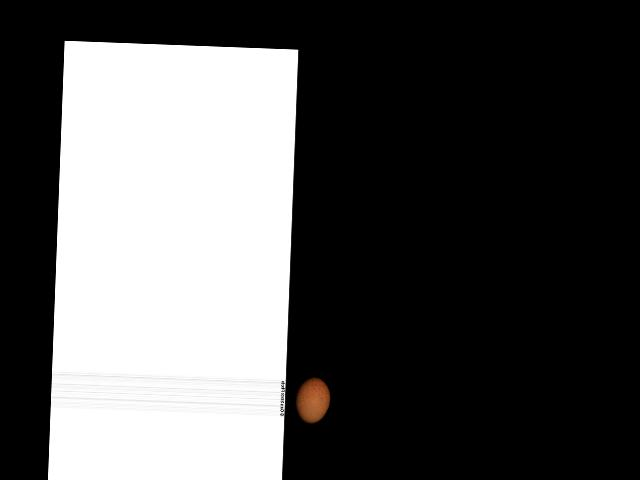egg: (293, 376, 330, 424)
